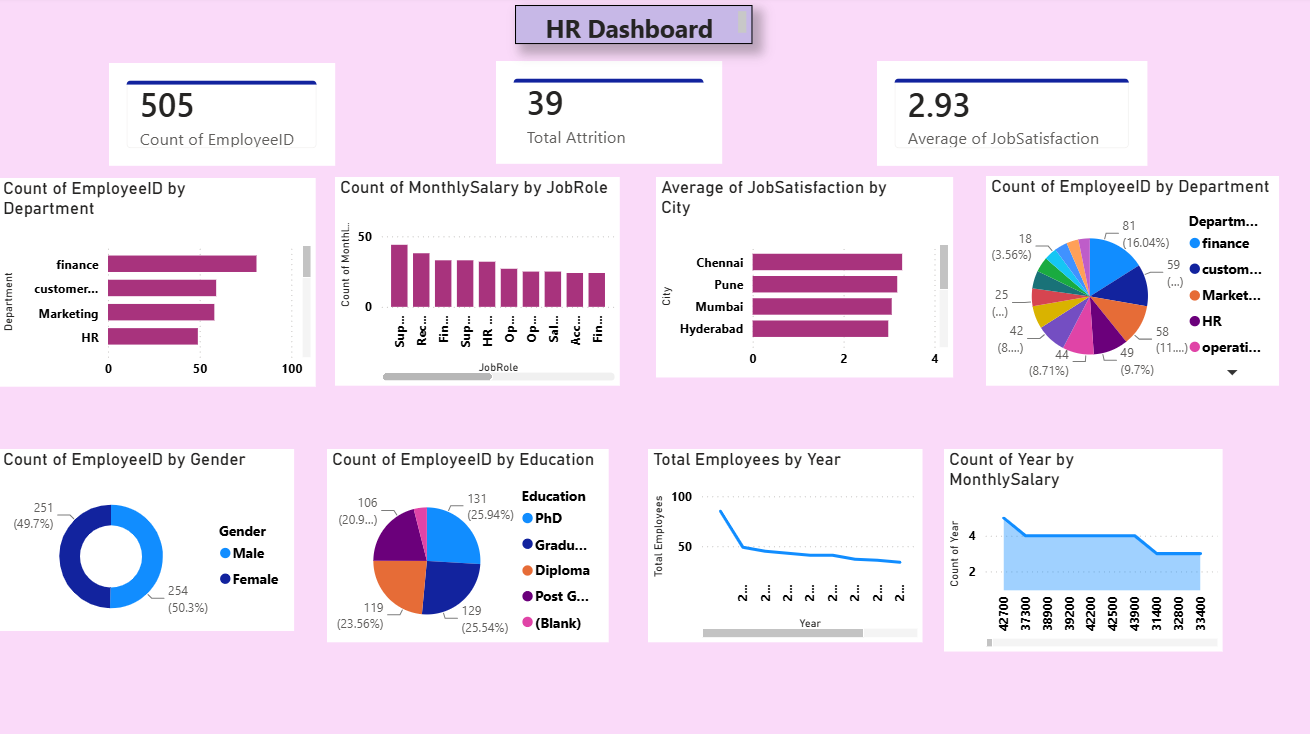

The page's visual inventory and layout, read from the dashboard file:
{"tool":"powerbi","page":{"name":"Page 1","canvas":[1280,720],"ordinal":0},"visuals":[{"type":"cardVisual","fields":{"Data":["CountNonNull(Raw Data.EmployeeID)"]},"box":[108,64.2,219.8,100.2],"z":0},{"type":"cardVisual","fields":{"Data":["Raw Data.Total Attrition"]},"box":[484.4,62.2,219.8,100.2],"z":1000},{"type":"cardVisual","fields":{"Data":["Avg(Raw Data.JobSatisfaction)"]},"box":[855,62.2,262.6,102.1],"z":2000},{"type":"textbox","box":[502.9,7.8,230.5,37.9],"z":3000},{"type":"barChart","fields":{"Category":["Raw Data.Department"],"Y":["CountNonNull(Raw Data.EmployeeID)"]},"box":[0,176,309.3,203.3],"z":4000},{"type":"columnChart","fields":{"Category":["Raw Data.JobRole"],"Y":["CountNonNull(Raw Data.MonthlySalary Hierarchy.MonthlySalary)"]},"box":[327.8,175.1,277.2,203.3],"z":5000},{"type":"barChart","fields":{"Category":["Raw Data.City"],"Y":["Avg(Raw Data.JobSatisfaction)"]},"box":[640,175.1,288.9,194.5],"z":6000},{"type":"pieChart","fields":{"Category":["Raw Data.Department"],"Y":["CountNonNull(Raw Data.EmployeeID)"]},"box":[961,174.1,285,204.3],"z":7000},{"type":"donutChart","fields":{"Category":["Raw Data.Gender"],"Y":["CountNonNull(Raw Data.EmployeeID)"]},"box":[0,439.6,287.9,177],"z":8000},{"type":"pieChart","fields":{"Category":["Raw Data.Education"],"Y":["CountNonNull(Raw Data.EmployeeID)"]},"box":[320,439.6,274.3,187.7],"z":9000},{"type":"lineChart","fields":{"Category":["Raw Data.Year"],"Y":["Raw Data.Total Employees"]},"box":[632,440,267.5,187.7],"z":10000},{"type":"areaChart","fields":{"Category":["Raw Data.MonthlySalary"],"Y":["CountNonNull(Raw Data.Year)"]},"box":[920,440,271.4,197.4],"z":11000}]}

Visuals, with their boxes in screenshot pixels (x1, y1, x2, y2), scaled from the page's 1280x720 canvas onto the 1310x734 screenshot:
cardVisual - CountNonNull(Raw Data.EmployeeID): {"left": 111, "top": 65, "right": 335, "bottom": 168}
cardVisual - Raw Data.Total Attrition: {"left": 496, "top": 63, "right": 721, "bottom": 166}
cardVisual - Avg(Raw Data.JobSatisfaction): {"left": 875, "top": 63, "right": 1144, "bottom": 167}
textbox: {"left": 515, "top": 8, "right": 751, "bottom": 47}
barChart - Raw Data.Department x CountNonNull(Raw Data.EmployeeID): {"left": 0, "top": 179, "right": 317, "bottom": 387}
columnChart - Raw Data.JobRole x CountNonNull(Raw Data.MonthlySalary Hierarchy.MonthlySalary): {"left": 335, "top": 179, "right": 619, "bottom": 386}
barChart - Raw Data.City x Avg(Raw Data.JobSatisfaction): {"left": 655, "top": 179, "right": 951, "bottom": 377}
pieChart - Raw Data.Department x CountNonNull(Raw Data.EmployeeID): {"left": 984, "top": 177, "right": 1275, "bottom": 386}
donutChart - Raw Data.Gender x CountNonNull(Raw Data.EmployeeID): {"left": 0, "top": 448, "right": 295, "bottom": 629}
pieChart - Raw Data.Education x CountNonNull(Raw Data.EmployeeID): {"left": 328, "top": 448, "right": 608, "bottom": 639}
lineChart - Raw Data.Year x Raw Data.Total Employees: {"left": 647, "top": 449, "right": 921, "bottom": 640}
areaChart - Raw Data.MonthlySalary x CountNonNull(Raw Data.Year): {"left": 942, "top": 449, "right": 1219, "bottom": 650}
